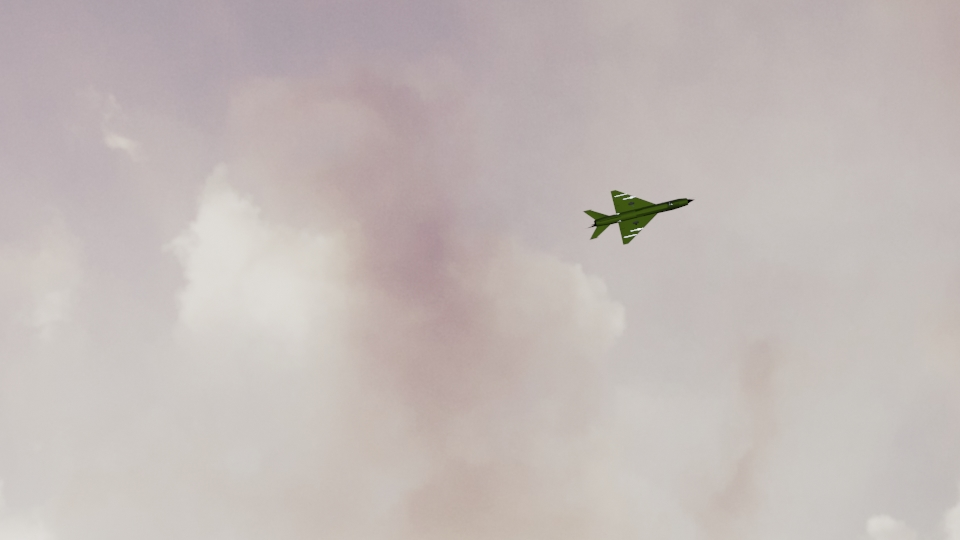plane: (582, 186, 693, 243)
